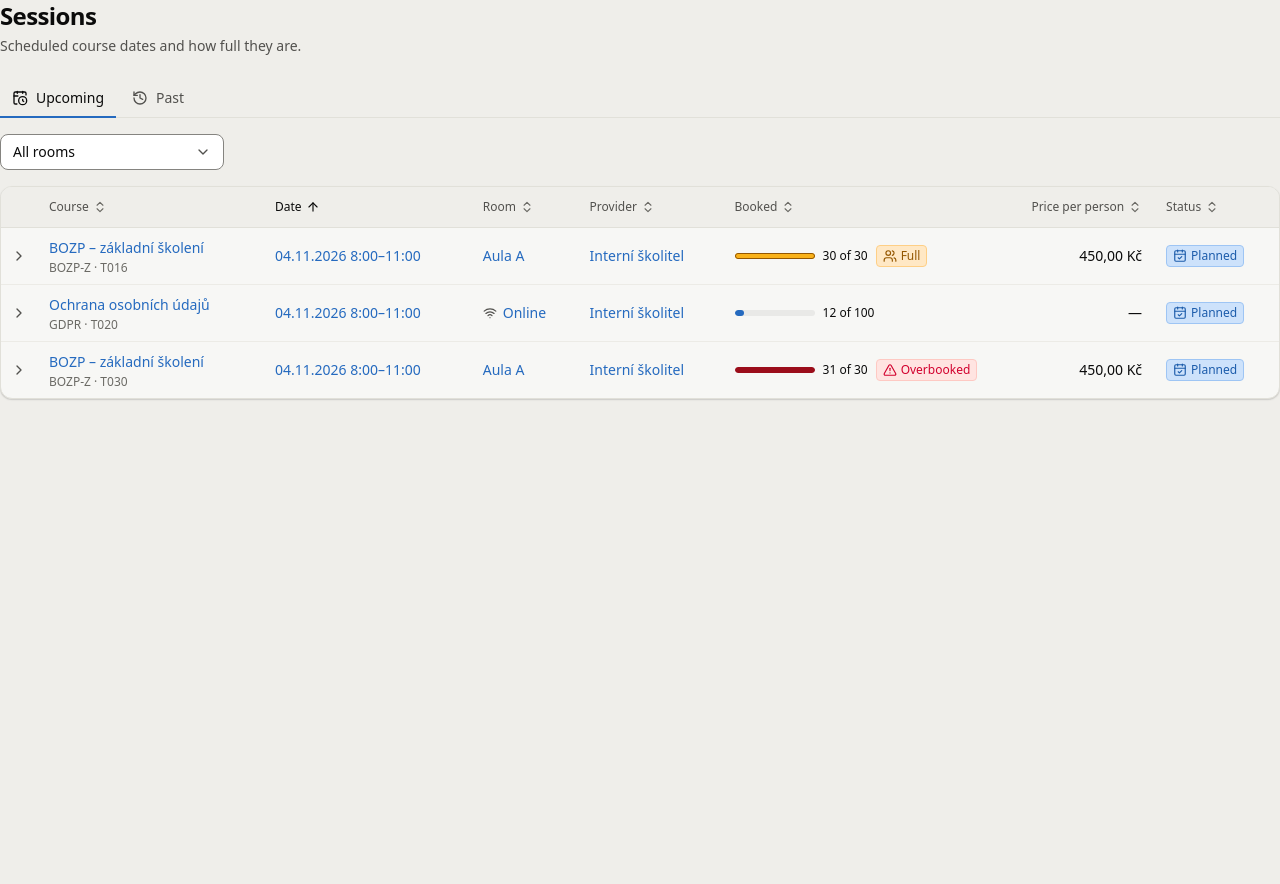
Test: session list › opens a session row to the session and the people booked on it
The width and height of the screenshot is (1280, 884).
# Every session opens, with or without named bookings.
Click the button named "Who is booked on T020" at [19, 313], box [5,299,33,327]
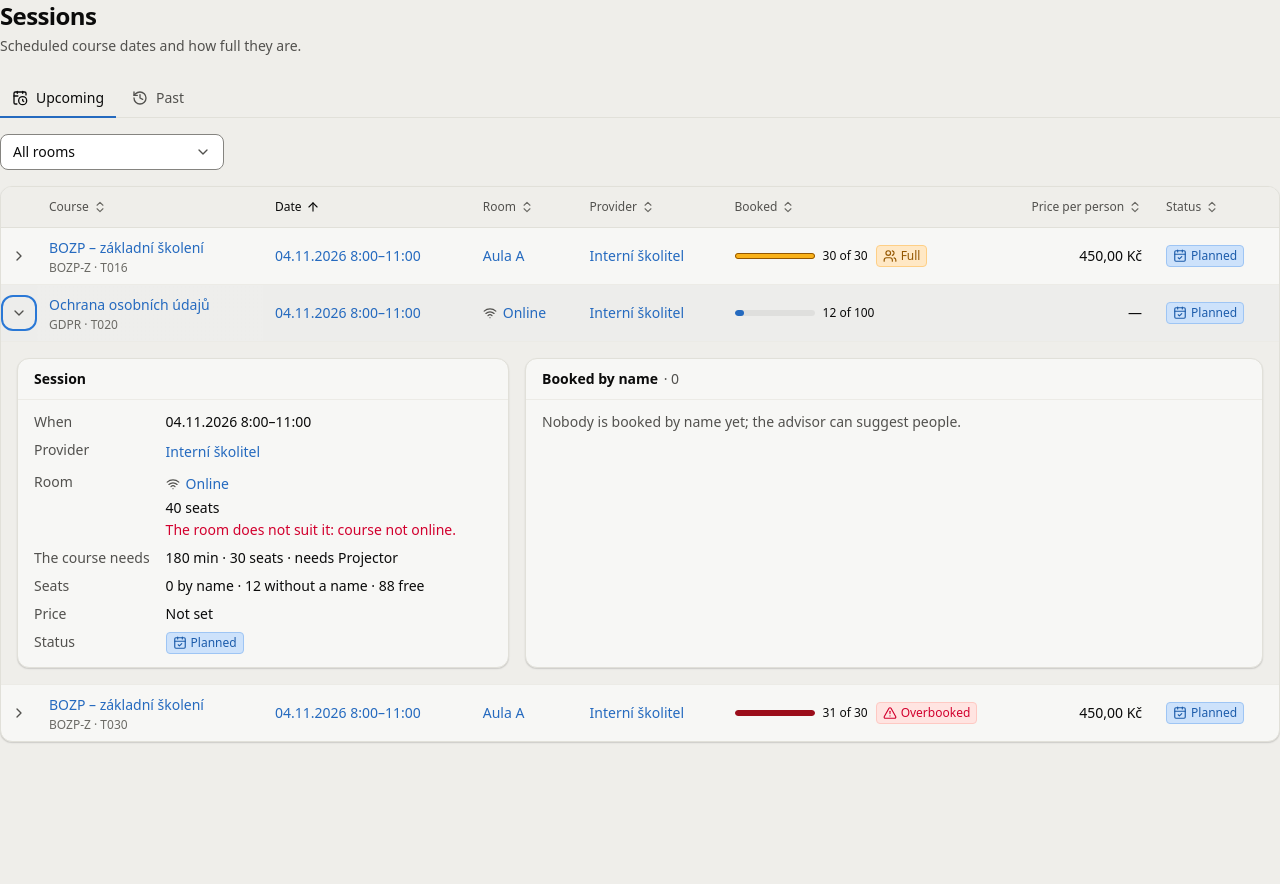
Check: the text "Nobody is booked by name yet; the advisor can suggest people." is shown, box [542,412,961,431]
Click the button named "Who is booked on T016" at [19, 256], box [5,242,33,270]
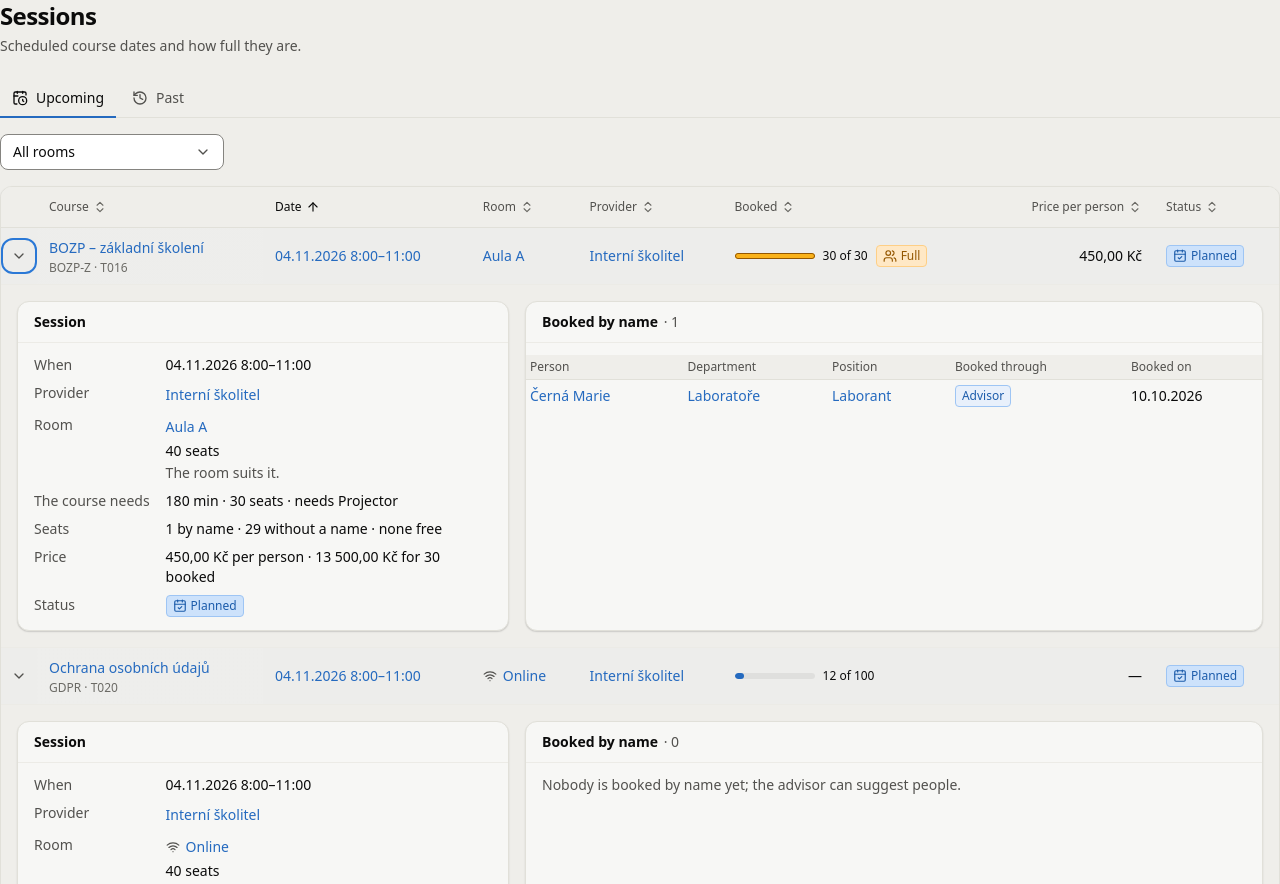
Check: the text "1 by name · 29 without a name · none free" is shown, box [166,519,442,538]
Check: the text "The room suits it." is shown, box [166,463,280,482]
Check: the link "Laboratoře" is shown, box [688,384,760,408]
